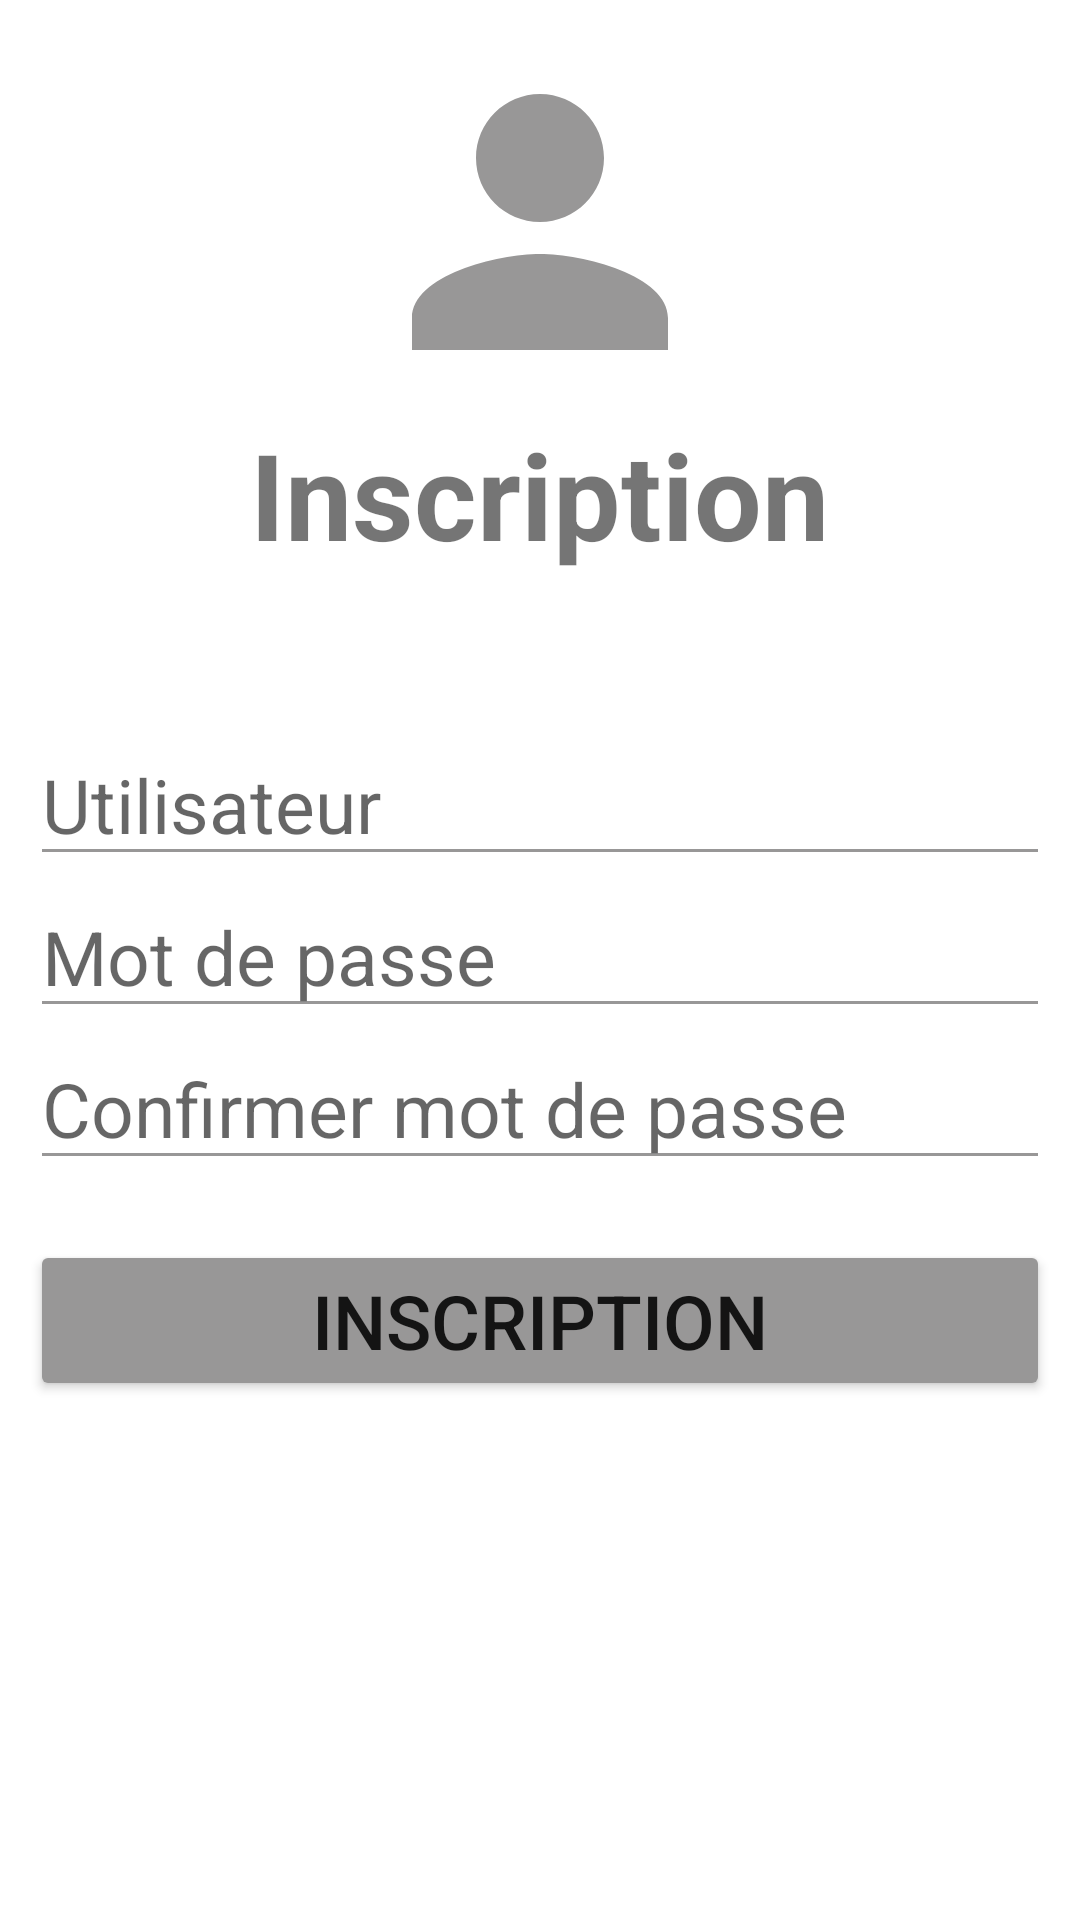

Where icons sit on this 1080*1920 app screen, as (x1,y1,x2,y2):
person: (412,94,668,350)
